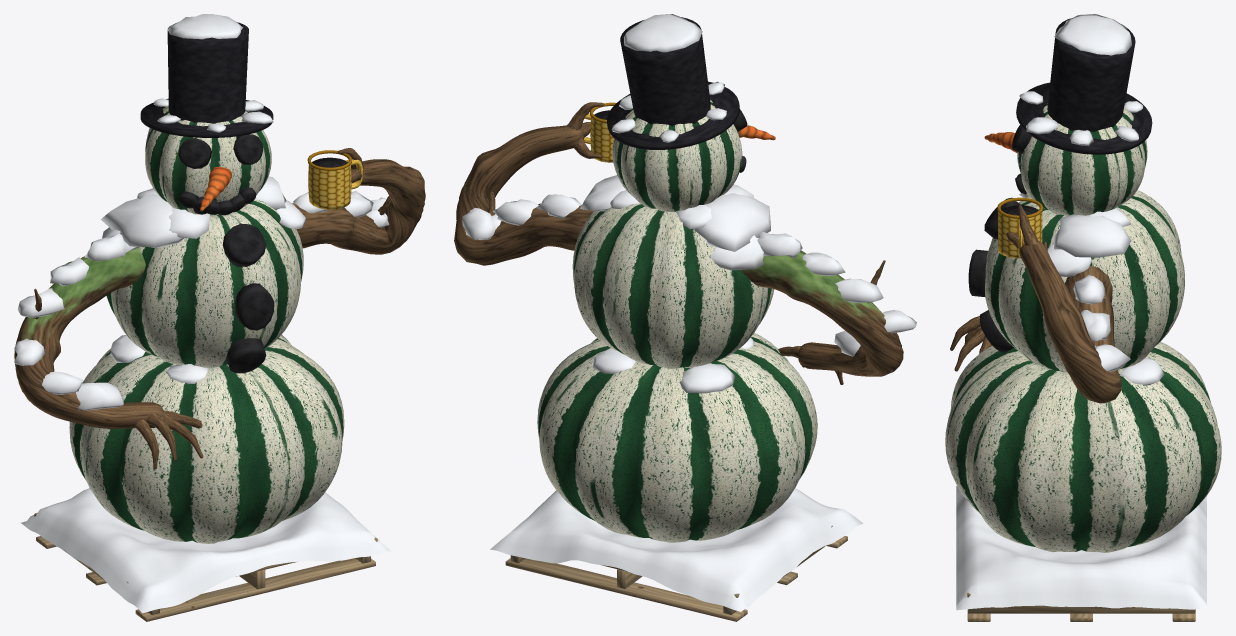
File: snowman.glb
3 renders of one model, left to right at view 1: azimuth 30°, elevation 25°; view 2: azimuth 150°, elevation 25°; view 3: azimuth 270°, elevation 25°, orthographic. The views are drawn at different scales.
Parts seen in each view (by area): view 1: body, arm_L, arm_R, mug; view 2: body, arm_R, arm_L, mug; view 3: body, arm_R, mug, arm_L.
Part boxes in pixels (bbox=[...]): body: bbox=[21, 14, 391, 621]; arm_L: bbox=[14, 233, 203, 469]; arm_R: bbox=[292, 148, 425, 254]; mug: bbox=[307, 150, 363, 209]; body: bbox=[490, 14, 863, 621]; arm_R: bbox=[454, 102, 604, 265]; arm_L: bbox=[741, 232, 916, 384]; mug: bbox=[582, 102, 616, 162]; body: bbox=[945, 14, 1221, 621]; arm_R: bbox=[1006, 205, 1130, 403]; mug: bbox=[997, 197, 1043, 258]; arm_L: bbox=[950, 193, 1028, 371].
Bounding box in the file's own units: 2.24 × 2.63 × 1.21.
Materials: 3 (2 with a texture image).
